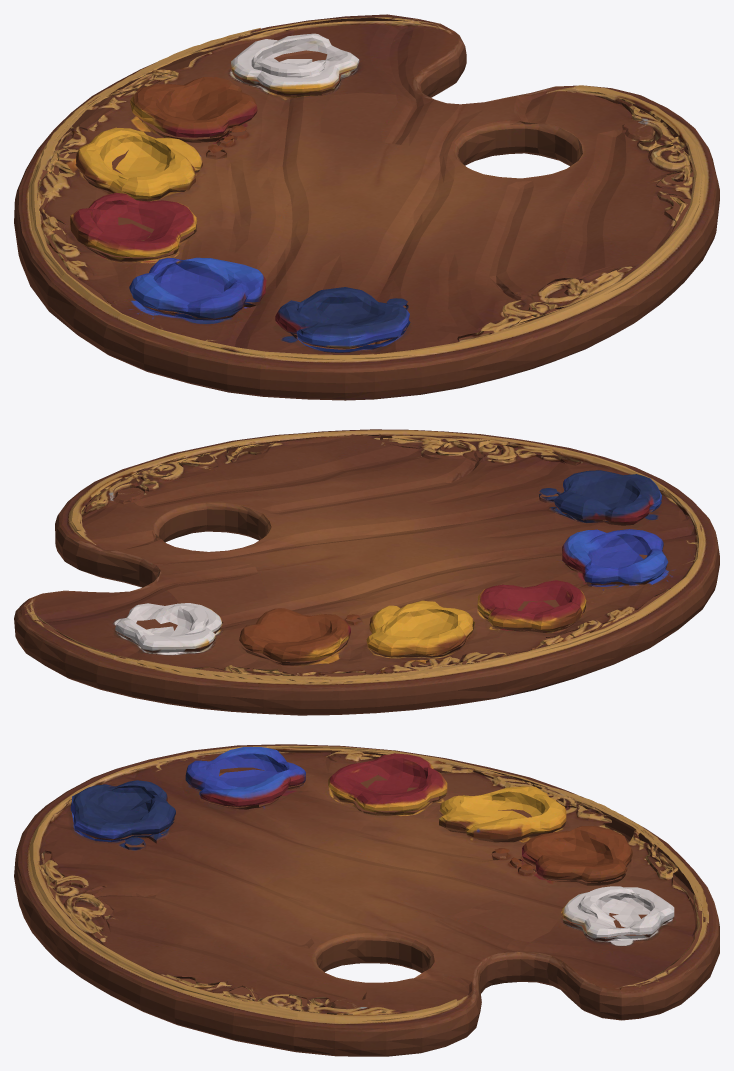
The model's file is Pintura.glb.
The picture shows the model from 3 angles, top to bottom: view 1: azimuth 30°, elevation 25°; view 2: azimuth 150°, elevation 25°; view 3: azimuth 270°, elevation 25°; orthographic projection. The views are drawn at different scales.
Parts seen in each view (by area): view 1: tripo_node_329cb4f5-b655-4fa7-9cd6-3728717215e8; view 2: tripo_node_329cb4f5-b655-4fa7-9cd6-3728717215e8; view 3: tripo_node_329cb4f5-b655-4fa7-9cd6-3728717215e8.
Boxes of the visible parts, <box> form: tripo_node_329cb4f5-b655-4fa7-9cd6-3728717215e8: <box>14,14,719,400</box>; tripo_node_329cb4f5-b655-4fa7-9cd6-3728717215e8: <box>14,429,719,715</box>; tripo_node_329cb4f5-b655-4fa7-9cd6-3728717215e8: <box>14,744,719,1056</box>.
Size of the model in its own units: 0.8214 by 0.0668 by 0.8514.
Materials: 1 (1 with a texture image).
